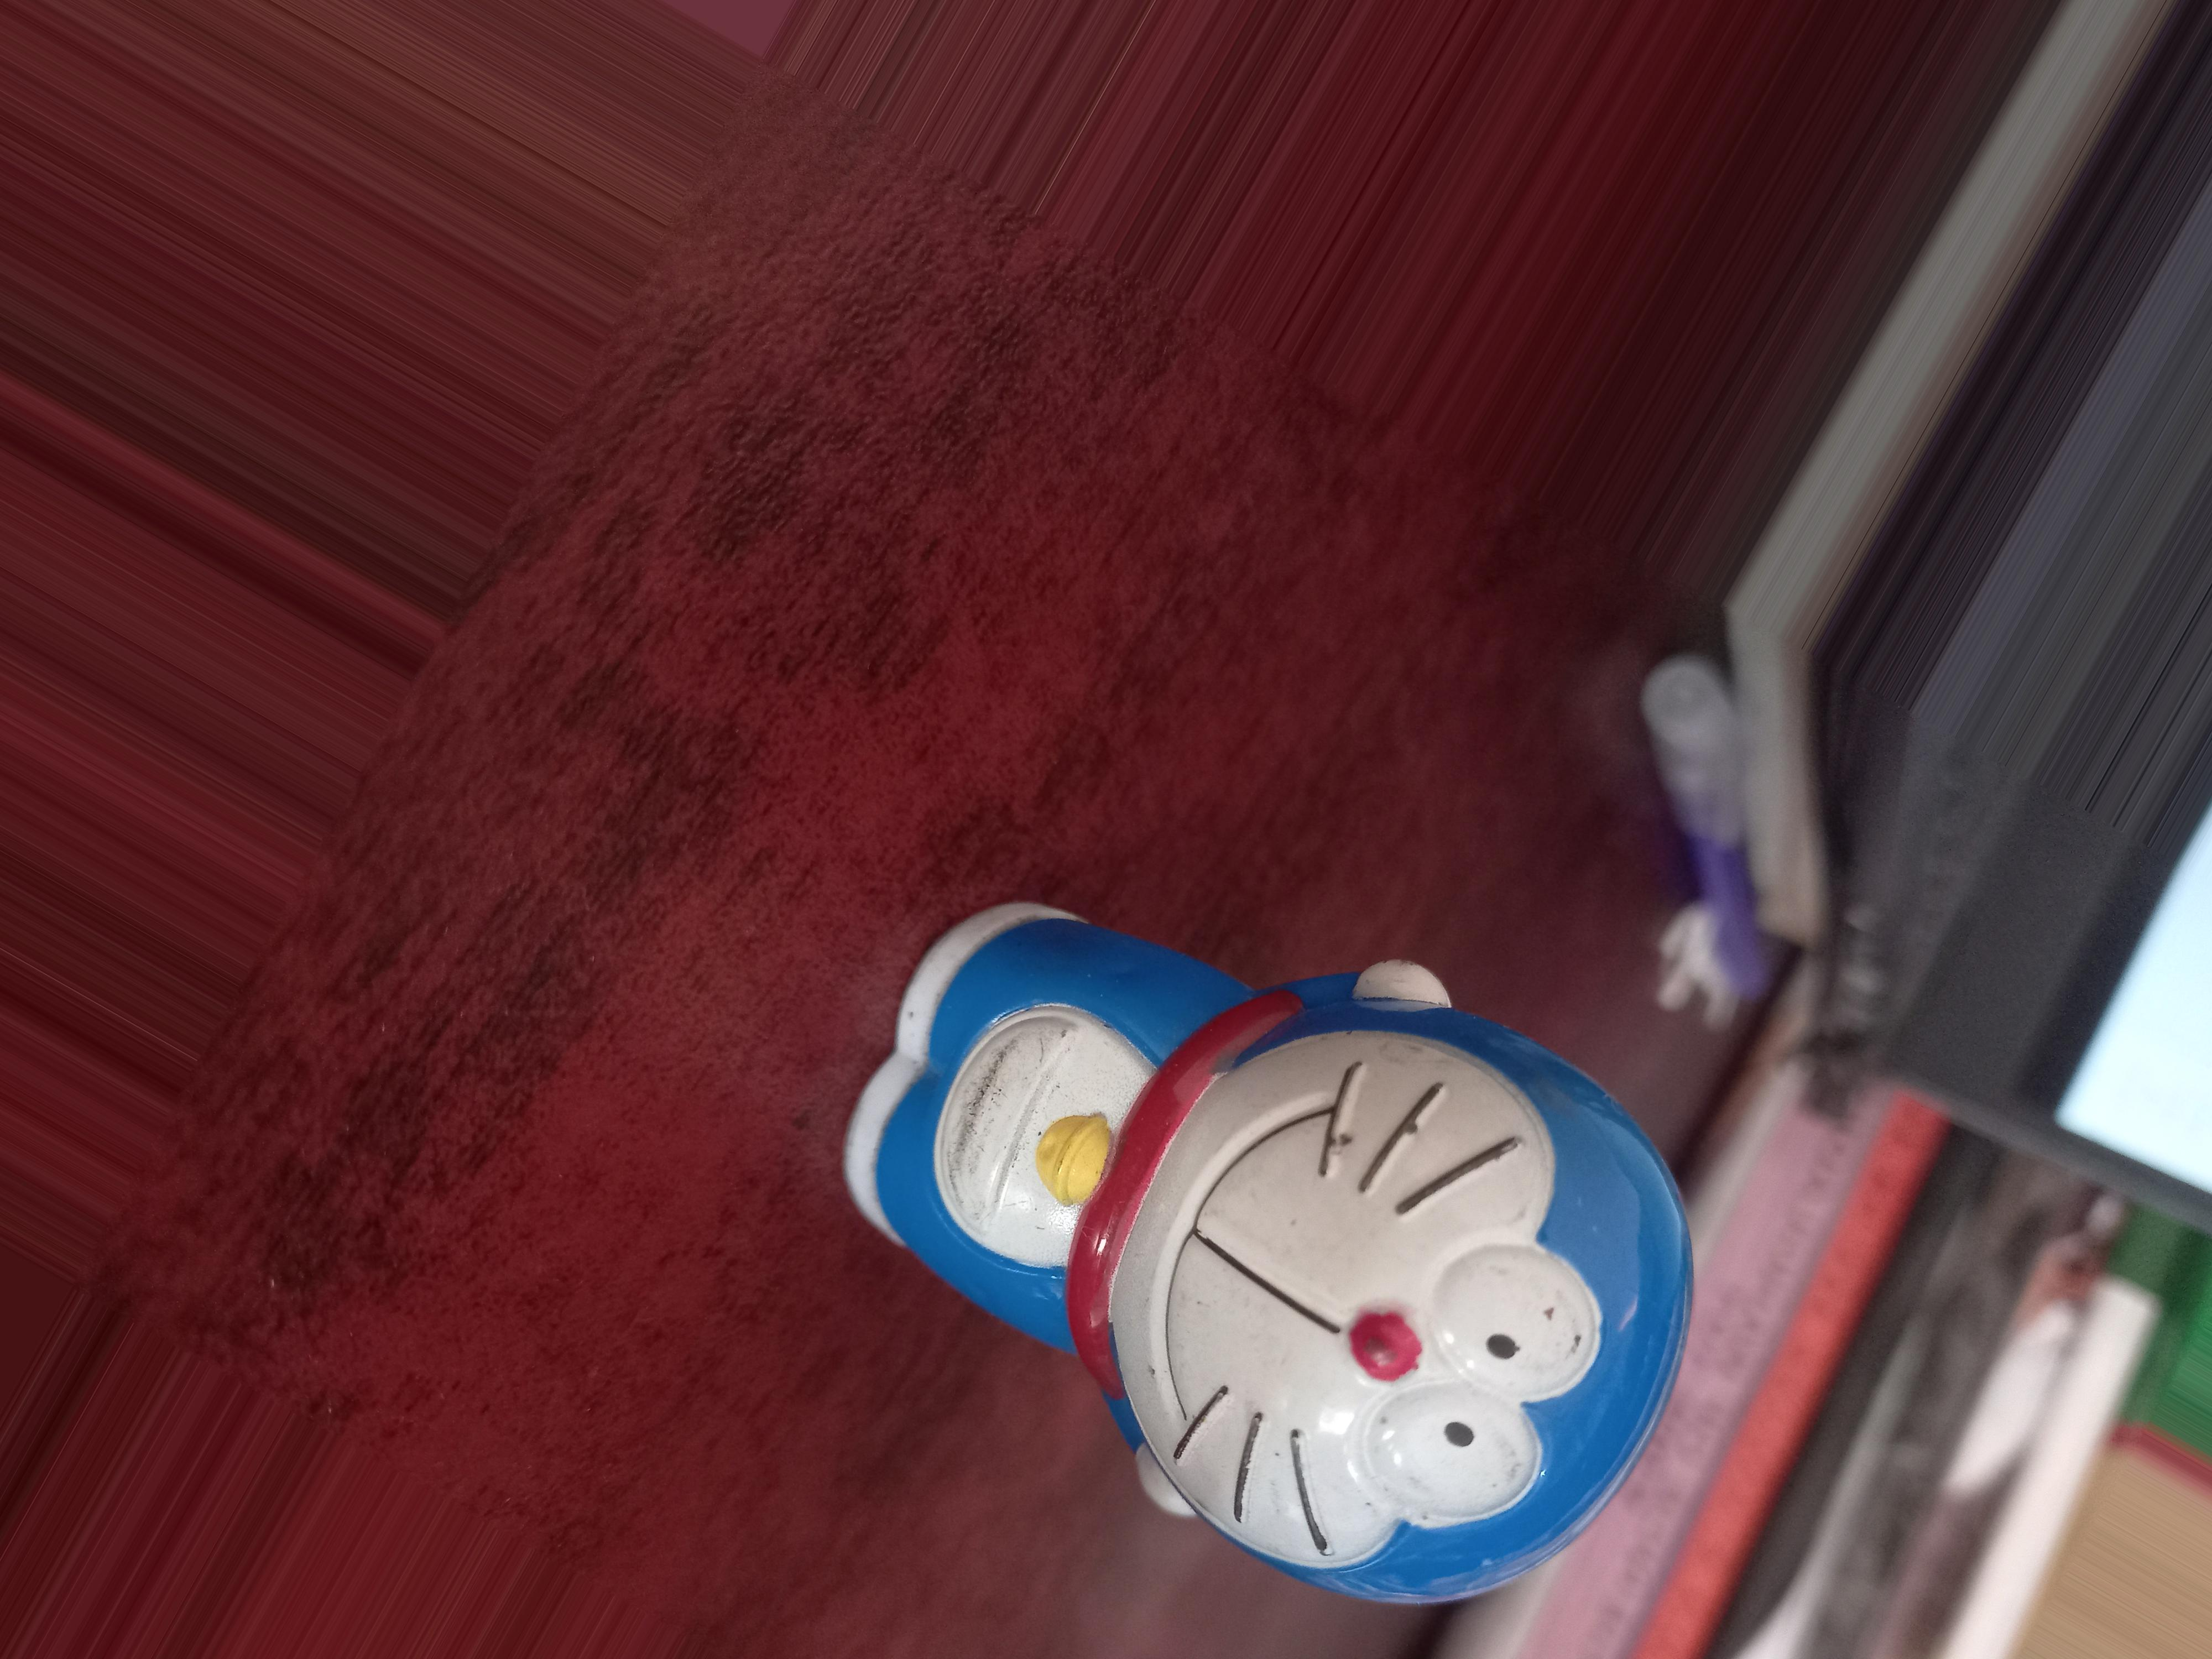doraemon: (923, 901, 1538, 1607)
